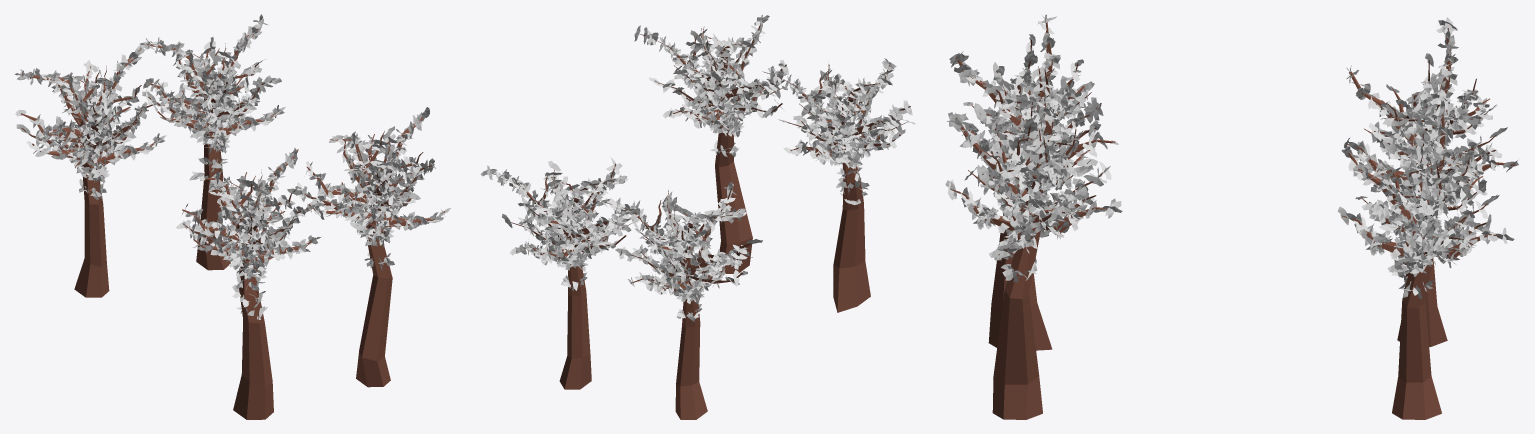
File: trees.fbx
The picture shows the model from 3 angles, left to right: view 1: azimuth 30°, elevation 25°; view 2: azimuth 150°, elevation 25°; view 3: azimuth 270°, elevation 25°; orthographic projection. The views are drawn at different scales.
Parts seen in each view (by area): view 1: tree4, tree2, tree3, tree1; view 2: tree4, tree3, tree2, tree1; view 3: tree2, tree1, tree4, tree3.
Boxes of the visible parts, x1=… form: tree4: x1=182, y1=149, x2=315, y2=419; tree2: x1=301, y1=117, x2=444, y2=387; tree3: x1=21, y1=47, x2=157, y2=297; tree1: x1=146, y1=28, x2=276, y2=270; tree4: x1=762, y1=63, x2=910, y2=312; tree3: x1=604, y1=188, x2=755, y2=419; tree2: x1=637, y1=18, x2=786, y2=273; tree1: x1=494, y1=163, x2=636, y2=389; tree2: x1=950, y1=93, x2=1113, y2=419; tree1: x1=1342, y1=114, x2=1499, y2=419; tree4: x1=956, y1=18, x2=1115, y2=350; tree3: x1=1344, y1=28, x2=1515, y2=346.
Size of the model in its own units: 373 by 327 by 547.
